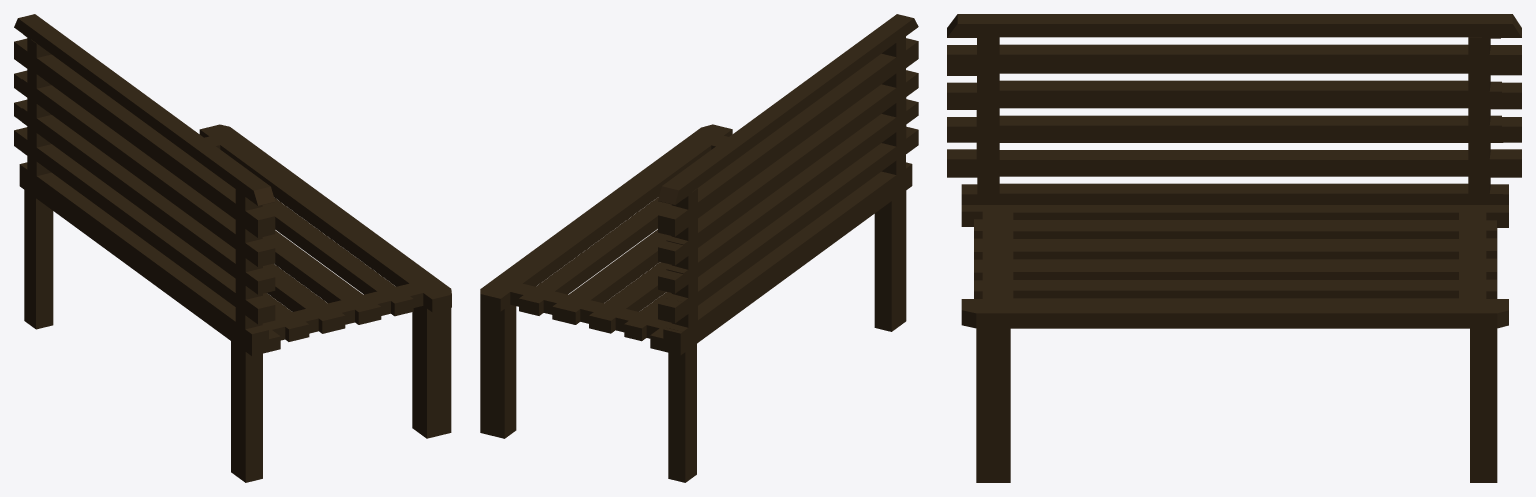
The model's file is benchis 1.dae.
3 renders of one model, left to right at view 1: azimuth 30°, elevation 25°; view 2: azimuth 150°, elevation 25°; view 3: azimuth 270°, elevation 25°, orthographic. The views are drawn at different scales.
Parts seen in each view (by area): view 1: Cube; view 2: Cube; view 3: Cube.
Part boxes in pixels (bbox=[...]): Cube: bbox=[14, 14, 451, 482]; Cube: bbox=[480, 14, 918, 482]; Cube: bbox=[947, 14, 1521, 482].
Bounding box in the file's own units: 2.11 × 4.35 × 2.93.
